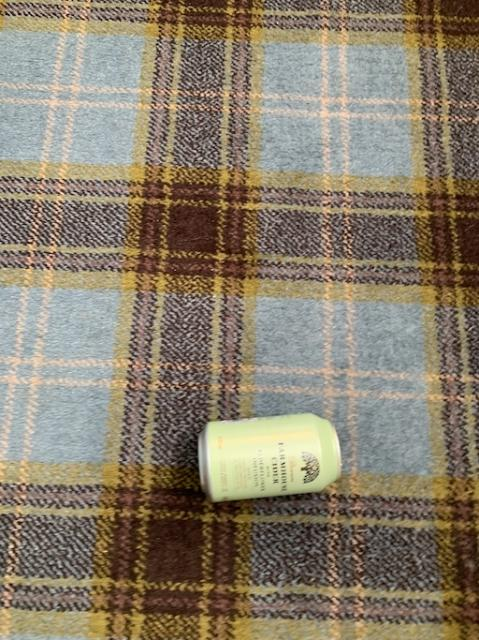metal: (198, 412, 340, 500)
